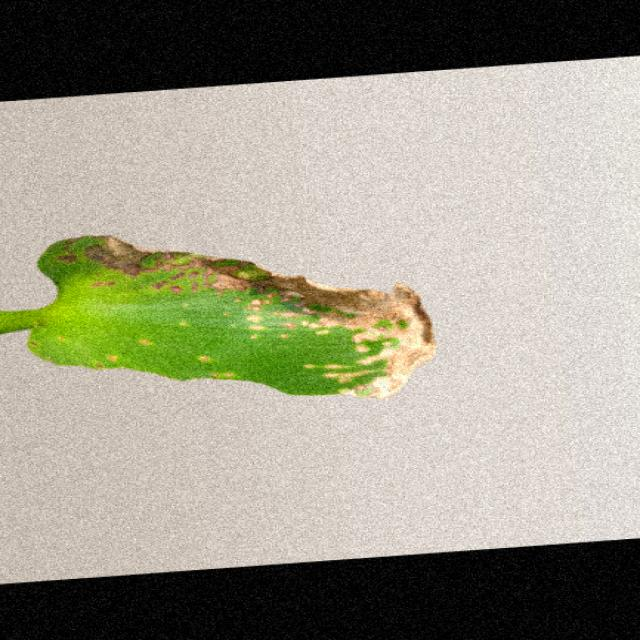daun berpenyakit bercak: (0, 236, 433, 399)
